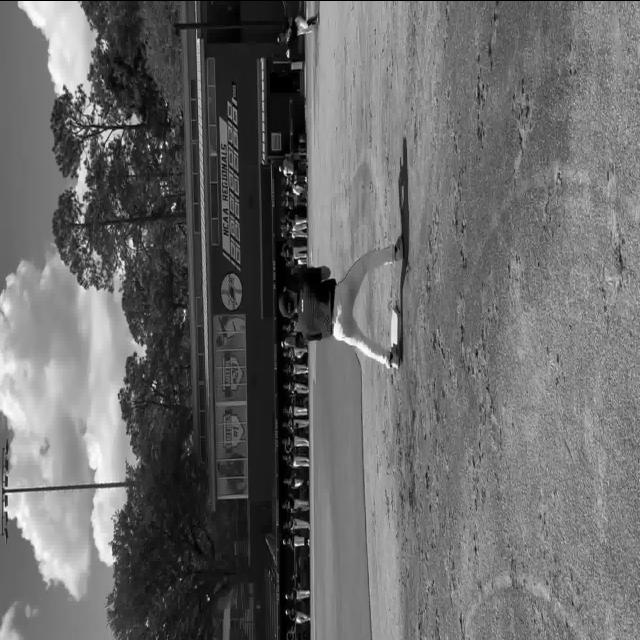base: (391, 307, 402, 367)
shoe: (394, 233, 405, 262), (389, 342, 399, 369)
